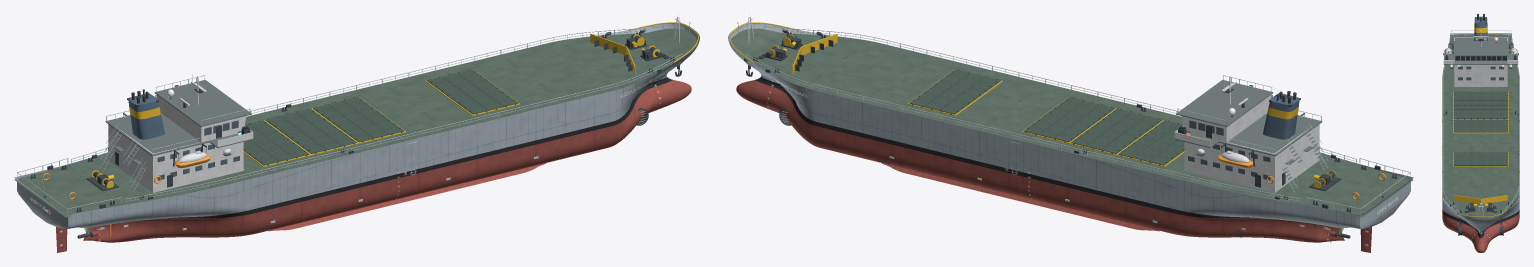
Rendered from blender-hull-V8B.glb.
The picture shows the model from 3 angles, left to right: view 1: azimuth 30°, elevation 25°; view 2: azimuth 150°, elevation 25°; view 3: azimuth 270°, elevation 25°; orthographic projection. The views are drawn at different scales.
Parts seen in each view (by area): view 1: ShipHull, Main_Deck, CargoBay_Pad_HatchCovers, Accommodation_Block, House_Deck_Levels, Deck_Safety_Rails, Deck_Mooring_Machinery, Bilge_Keels, Hatch_Coamings_Cleats, House_Outfit_Rails_Ladders, Funnel_Casing, Bridge_Window_Glazing (+1 smaller); view 2: ShipHull, Main_Deck, CargoBay_Pad_HatchCovers, Accommodation_Block, House_Deck_Levels, Deck_Safety_Rails, Deck_Mooring_Machinery, Bilge_Keels, Hatch_Coamings_Cleats, House_Outfit_Rails_Ladders, Funnel_Casing, Bridge_Window_Glazing (+1 smaller); view 3: Main_Deck, CargoBay_Pad_HatchCovers, ShipHull, Accommodation_Block, House_Deck_Levels, Deck_Mooring_Machinery, Hatch_Coamings_Cleats, Deck_Safety_Rails, Bridge_Window_Glazing, Funnel_Casing, House_Outfit_Rails_Ladders, LifeSaving_Appliances (+5 smaller).
Part boxes in pixels (x1=…): ShipHull: x1=14, y1=23, x2=699, y2=242; Main_Deck: x1=14, y1=28, x2=698, y2=217; CargoBay_Pad_HatchCovers: x1=243, y1=69, x2=518, y2=165; Accommodation_Block: x1=108, y1=95, x2=246, y2=192; House_Deck_Levels: x1=105, y1=79, x2=253, y2=156; Deck_Safety_Rails: x1=17, y1=22, x2=698, y2=213; Deck_Mooring_Machinery: x1=30, y1=14, x2=690, y2=212; Bilge_Keels: x1=268, y1=163, x2=545, y2=231; Hatch_Coamings_Cleats: x1=243, y1=69, x2=519, y2=166; House_Outfit_Rails_Ladders: x1=100, y1=75, x2=253, y2=191; Funnel_Casing: x1=128, y1=93, x2=164, y2=139; Bridge_Window_Glazing: x1=115, y1=120, x2=239, y2=187; ShipHull: x1=728, y1=23, x2=1413, y2=242; Main_Deck: x1=729, y1=28, x2=1413, y2=217; CargoBay_Pad_HatchCovers: x1=909, y1=69, x2=1184, y2=165; Accommodation_Block: x1=1181, y1=95, x2=1319, y2=192; House_Deck_Levels: x1=1174, y1=79, x2=1322, y2=156; Deck_Safety_Rails: x1=729, y1=22, x2=1410, y2=213; Deck_Mooring_Machinery: x1=737, y1=14, x2=1397, y2=212; Bilge_Keels: x1=882, y1=163, x2=1159, y2=231; Hatch_Coamings_Cleats: x1=908, y1=69, x2=1184, y2=166; House_Outfit_Rails_Ladders: x1=1174, y1=75, x2=1327, y2=191; Funnel_Casing: x1=1263, y1=93, x2=1299, y2=139; Bridge_Window_Glazing: x1=1188, y1=120, x2=1285, y2=187; Main_Deck: x1=1442, y1=34, x2=1519, y2=217; CargoBay_Pad_HatchCovers: x1=1453, y1=91, x2=1508, y2=165; ShipHull: x1=1442, y1=33, x2=1519, y2=252; Accommodation_Block: x1=1454, y1=37, x2=1507, y2=86; House_Deck_Levels: x1=1443, y1=37, x2=1518, y2=64; Deck_Mooring_Machinery: x1=1443, y1=36, x2=1518, y2=224; Hatch_Coamings_Cleats: x1=1452, y1=91, x2=1509, y2=166; Deck_Safety_Rails: x1=1443, y1=30, x2=1518, y2=217; Bridge_Window_Glazing: x1=1455, y1=56, x2=1506, y2=80; Funnel_Casing: x1=1474, y1=16, x2=1487, y2=40; House_Outfit_Rails_Ladders: x1=1443, y1=33, x2=1518, y2=66; LifeSaving_Appliances: x1=1444, y1=33, x2=1517, y2=68.
Bounding box in the file's own units: 44.67 × 9.68 × 7.78.
29 materials, 10 textured.
